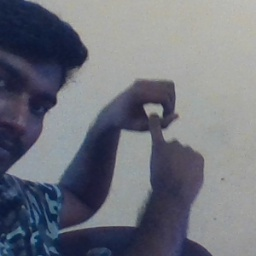Q: (105, 71, 209, 205)
